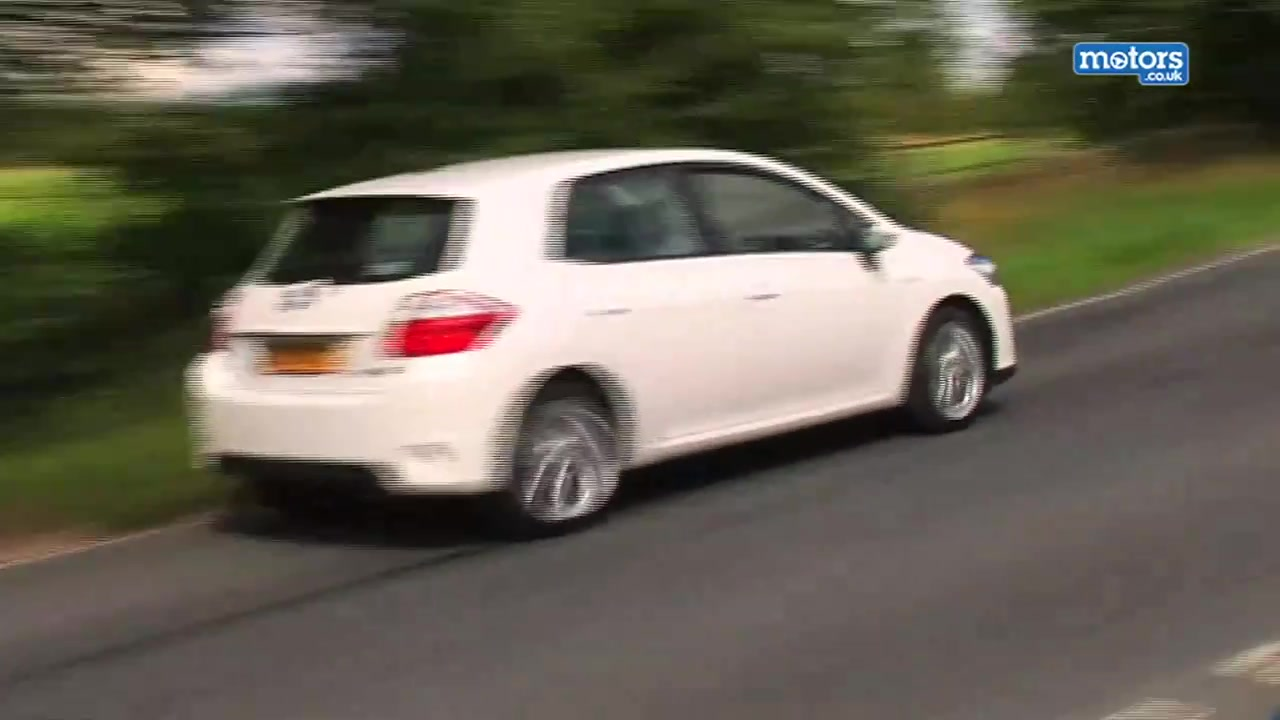car: (185, 140, 1021, 539)
